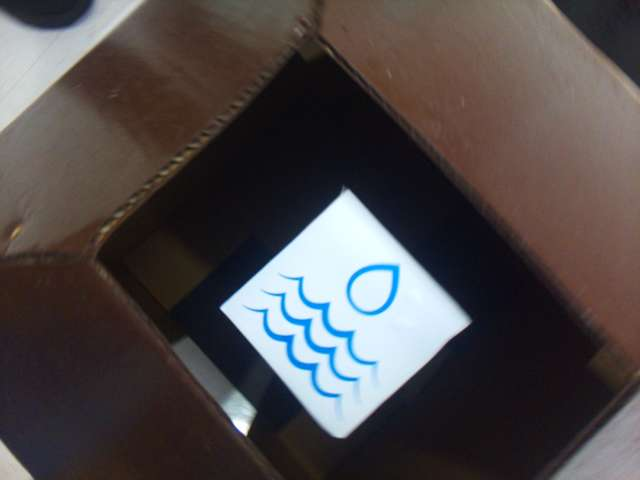water_barn: (222, 190, 464, 434)
